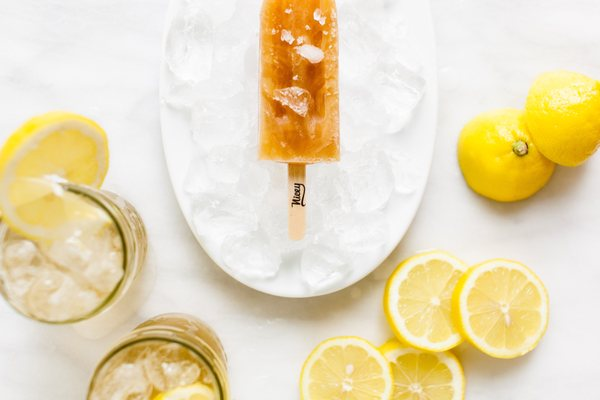pizza: (85, 312, 231, 396)
taco: (456, 68, 600, 203), (382, 249, 551, 359), (297, 335, 468, 396), (522, 68, 600, 168)
